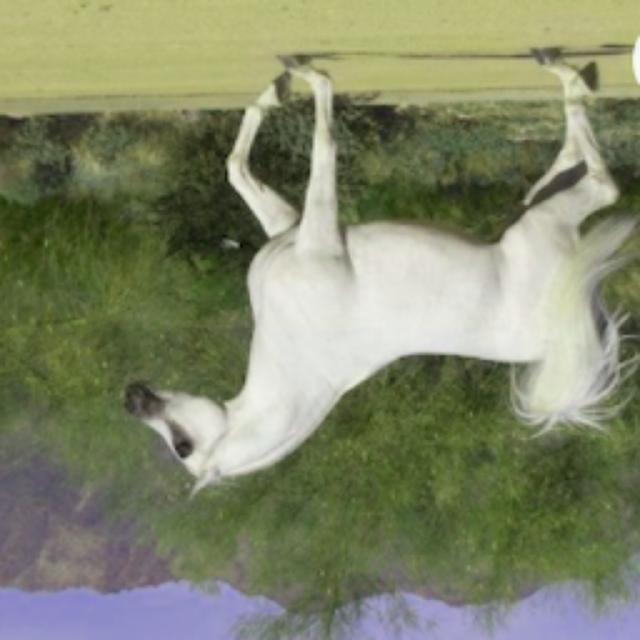Horse: (115, 40, 638, 505)
